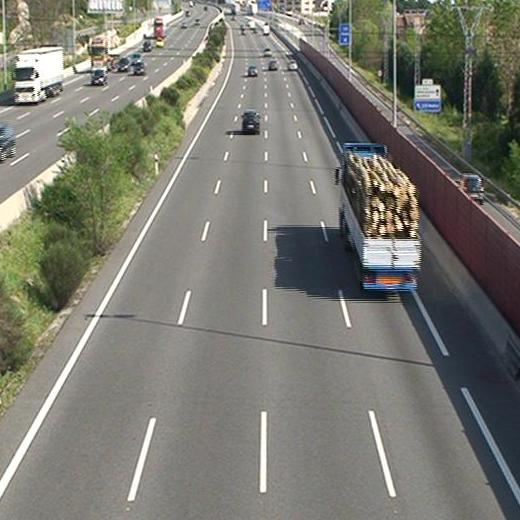car: (242, 109, 261, 133), (246, 66, 258, 77), (268, 61, 278, 70), (287, 60, 297, 69), (263, 48, 272, 57)
truck: (338, 145, 419, 292)
